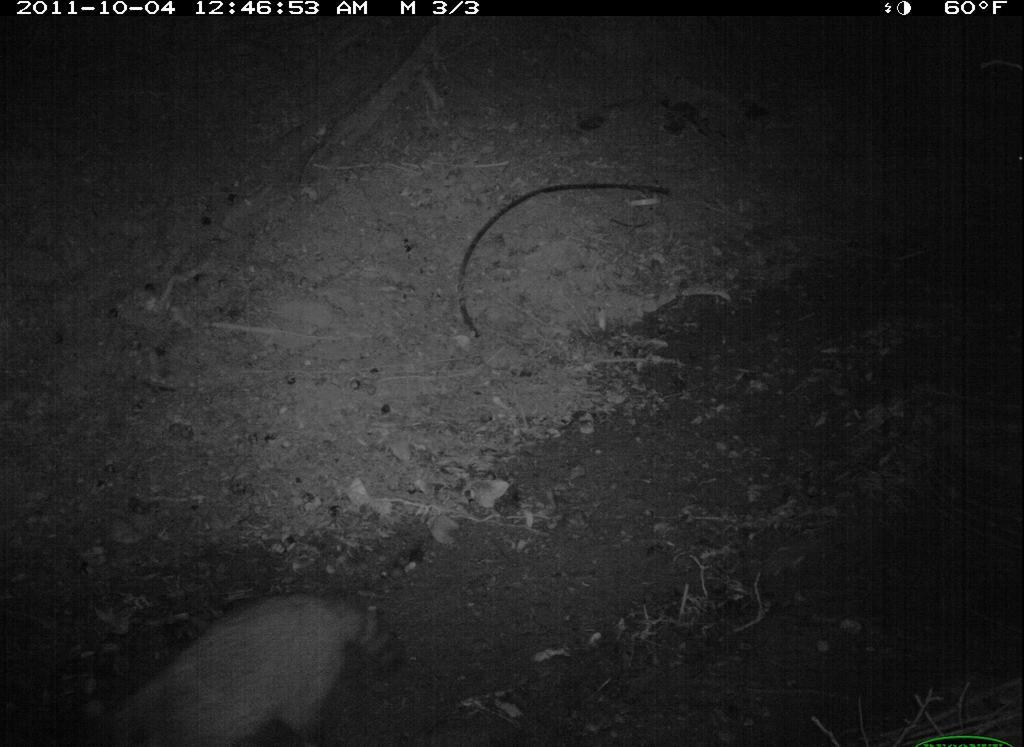raccoon: (100, 584, 411, 739)
